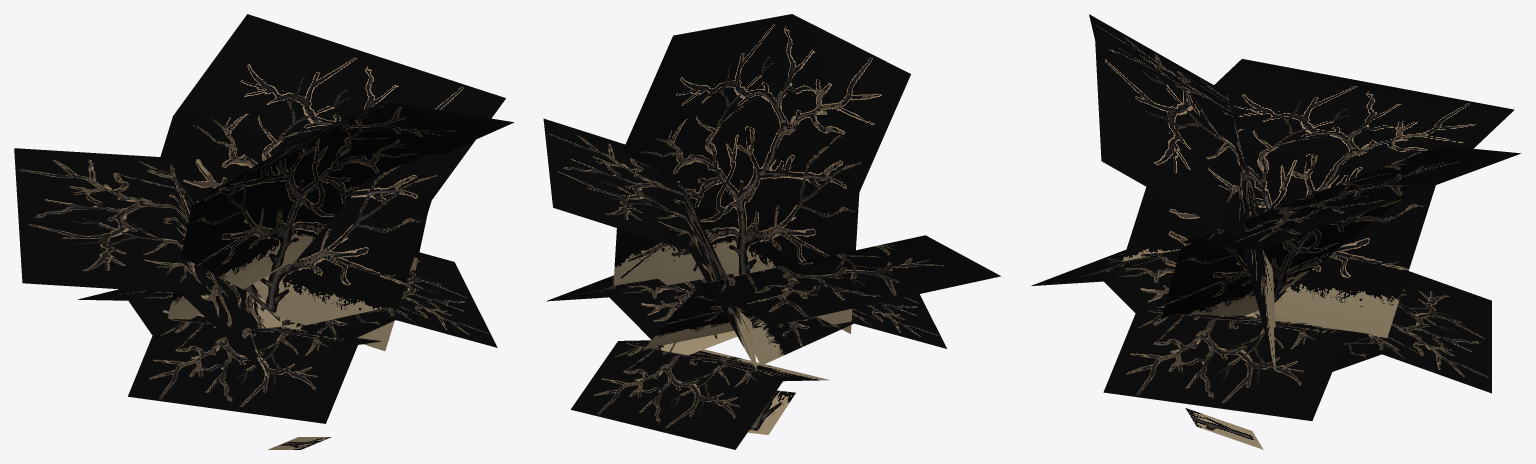
The model's file is oak_holly_4_dead.glb.
3 renders of one model, left to right at view 1: azimuth 30°, elevation 25°; view 2: azimuth 150°, elevation 25°; view 3: azimuth 270°, elevation 25°, orthographic. The views are drawn at different scales.
Visible parts, largest first — view 1: oak_holly_4_dead; view 2: oak_holly_4_dead; view 3: oak_holly_4_dead.
Boxes of the visible parts, bbox=[...] form: oak_holly_4_dead: bbox=[14, 14, 513, 449]; oak_holly_4_dead: bbox=[543, 14, 1000, 449]; oak_holly_4_dead: bbox=[1031, 14, 1521, 449].
Bounding box in the file's own units: 21.15 × 16.18 × 17.35.
1 material, 1 textured.
